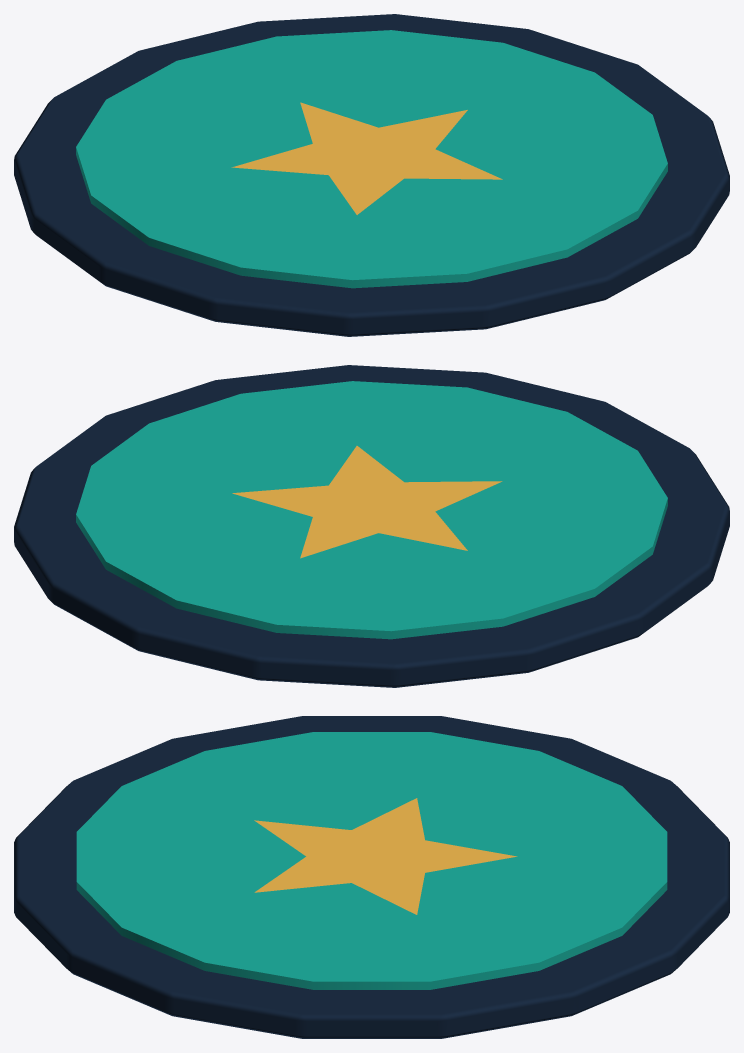
The model's file is CM_Plot_Pad.fbx.
3 views of the same model, one above another, from view 1: azimuth 30°, elevation 25°; view 2: azimuth 150°, elevation 25°; view 3: azimuth 270°, elevation 25° (orthographic).
Parts seen in each view (by area): view 1: OwnerPad; view 2: OwnerPad; view 3: OwnerPad.
Boxes of the visible parts, <box> form: OwnerPad: <box>14,14,729,336</box>; OwnerPad: <box>14,365,729,687</box>; OwnerPad: <box>14,716,729,1038</box>.
Size of what is drawn, in the model's own units: 7.85 by 7.85 by 0.403.
1 material, 1 textured.
